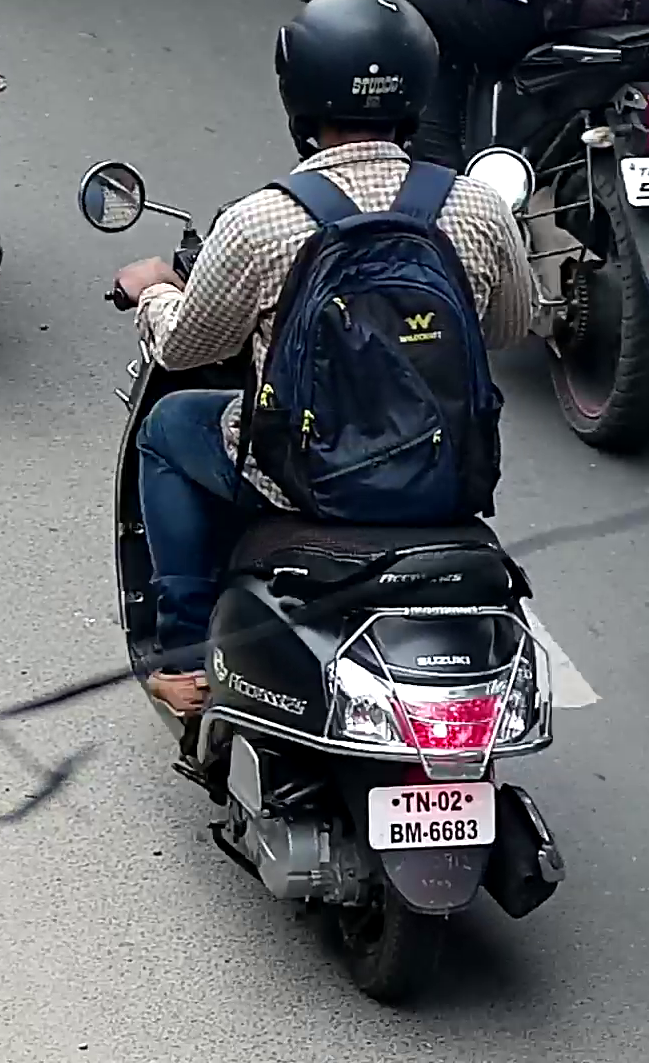-: (432, 801, 437, 807)
.: (423, 832, 428, 838)
0: (438, 791, 450, 811)
2: (450, 790, 463, 812)
3: (465, 819, 478, 839)
6: (441, 820, 453, 841), (429, 821, 441, 841)
8: (453, 819, 465, 840)
B: (389, 823, 404, 844)
M: (405, 821, 422, 844)
N: (415, 790, 431, 813)
P16: (365, 779, 497, 851)
T: (401, 791, 414, 813)
